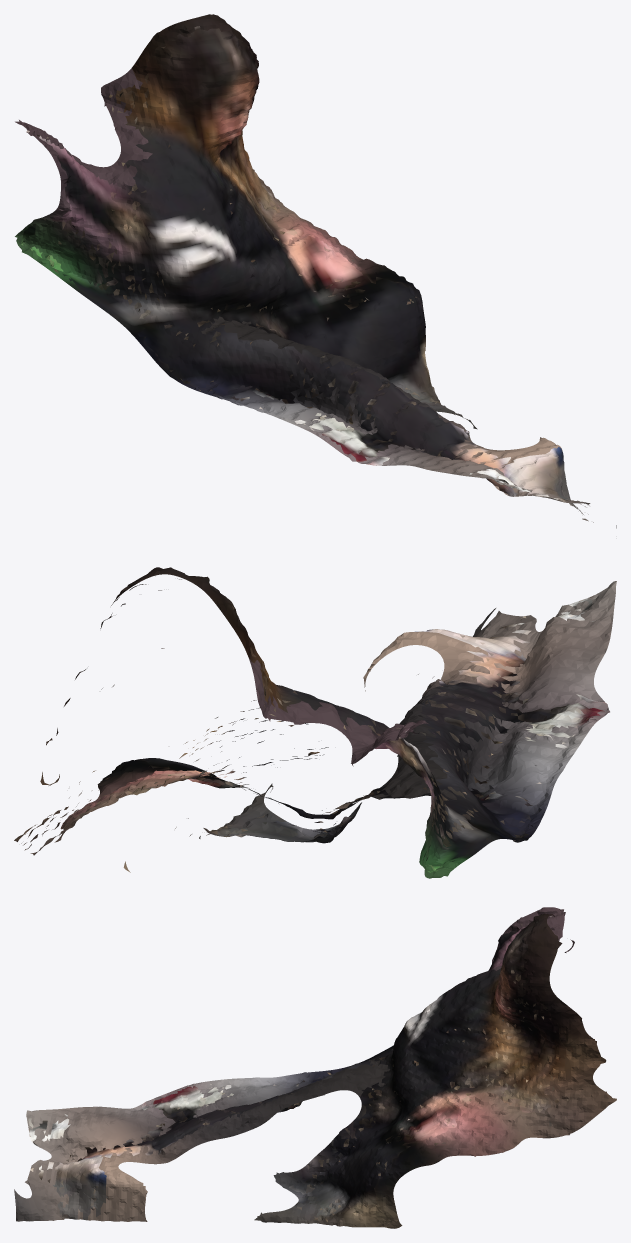
3 renders of one model, top to bottom at view 1: azimuth 30°, elevation 25°; view 2: azimuth 150°, elevation 25°; view 3: azimuth 270°, elevation 25°, orthographic. The views are drawn at different scales.
Bounding box in the file's own units: 0.6905 × 0.6441 × 1.36.
Materials: 1 (1 with a texture image).
